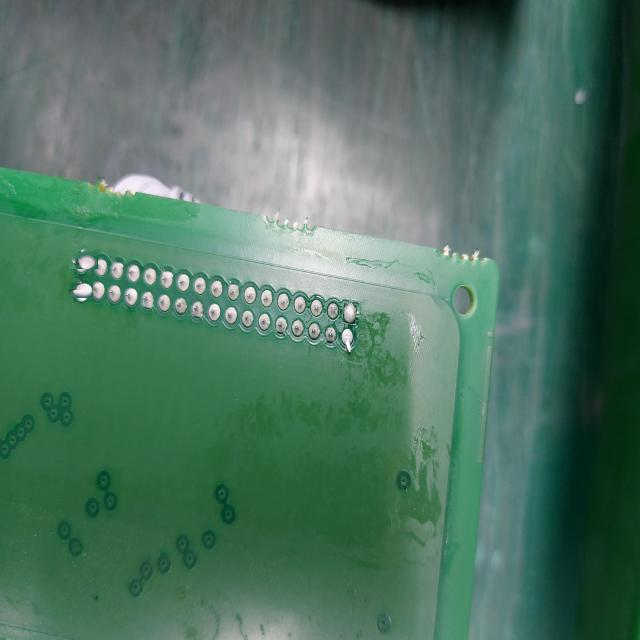slug: (340, 326, 358, 356), (72, 249, 95, 272), (71, 280, 91, 300)
